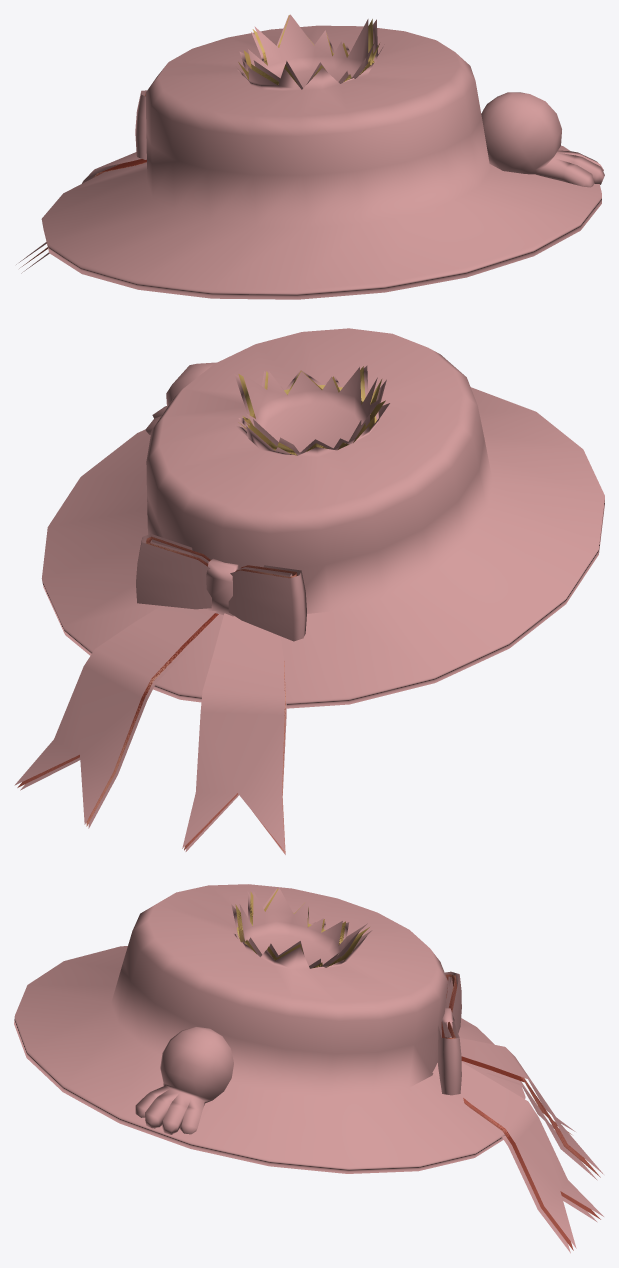
The model's file is hat_000.fbx.
The picture shows the model from 3 angles, top to bottom: view 1: azimuth 30°, elevation 25°; view 2: azimuth 150°, elevation 25°; view 3: azimuth 270°, elevation 25°; orthographic projection. The views are drawn at different scales.
Visible parts, largest first — view 1: hat_000_m; view 2: hat_000_m; view 3: hat_000_m.
Boxes of the visible parts, x1,y1,x2,y2 form: hat_000_m: (16,14,604,299); hat_000_m: (14,328,604,854); hat_000_m: (14,884,603,1253).
Size of the model in its own units: 22.14 by 14.47 by 26.52.
